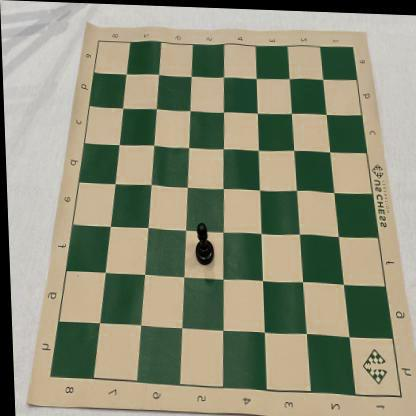black-pawn: (192, 219, 214, 266)
